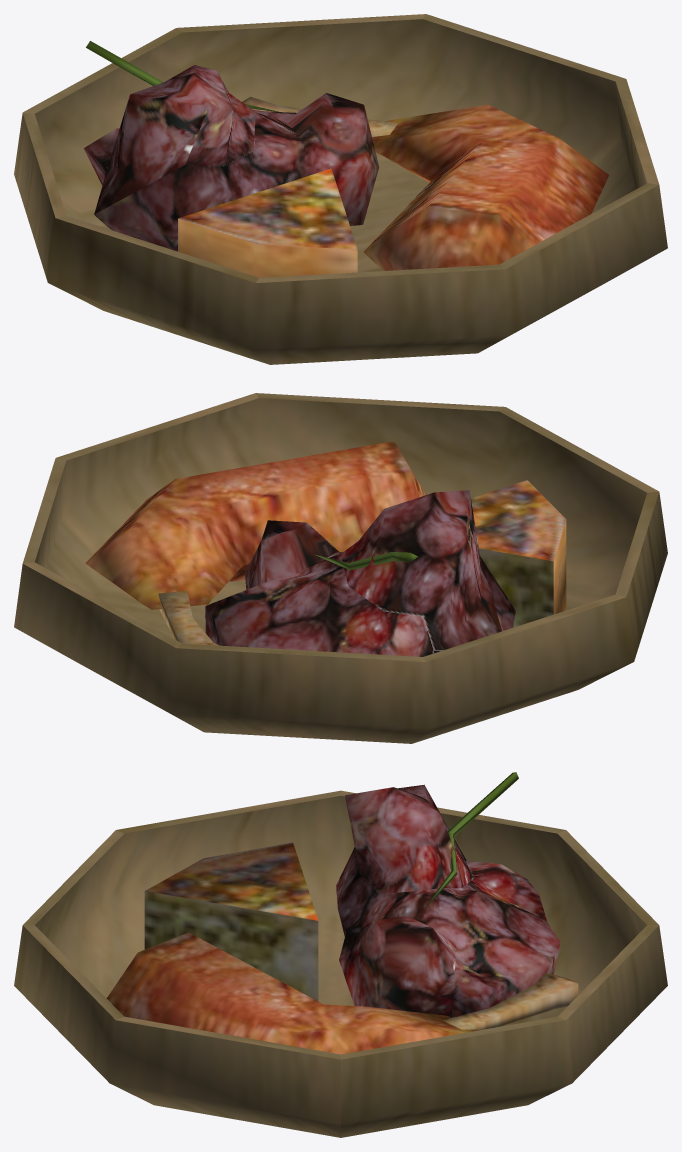
The model's file is platter-meal01.glb.
3 views of the same model, one above another, from view 1: azimuth 30°, elevation 25°; view 2: azimuth 150°, elevation 25°; view 3: azimuth 270°, elevation 25° (orthographic). The views are drawn at different scales.
Parts seen in each view (by area): view 1: platter02, fruit-grapes, BézierCurve, pie01.001; view 2: platter02, fruit-grapes, BézierCurve, pie01.001; view 3: platter02, fruit-grapes, BézierCurve, pie01.001.
Part boxes in pixels (x1,y1,x2,y2): platter02: (14, 14, 667, 364); fruit-grapes: (83, 41, 379, 251); BézierCurve: (242, 96, 608, 270); pie01.001: (178, 168, 357, 277); platter02: (14, 393, 667, 743); fruit-grapes: (205, 490, 515, 656); BézierCurve: (85, 441, 425, 645); pie01.001: (471, 480, 566, 627); platter02: (14, 790, 667, 1137); fruit-grapes: (336, 772, 560, 1017); BézierCurve: (106, 932, 578, 1054); pie01.001: (144, 842, 318, 1001).
Bounding box in the file's own units: 0.2933 × 0.0955 × 0.2933.
3 materials, 3 textured.
